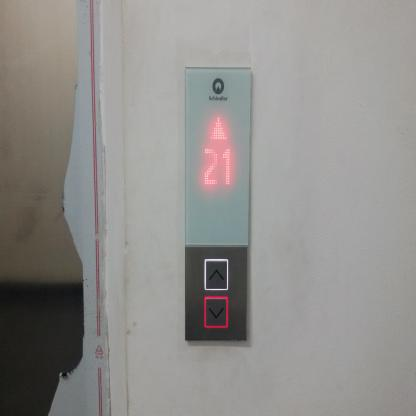down: (203, 296, 229, 328)
led: (182, 65, 253, 252)
up: (204, 258, 228, 290)
